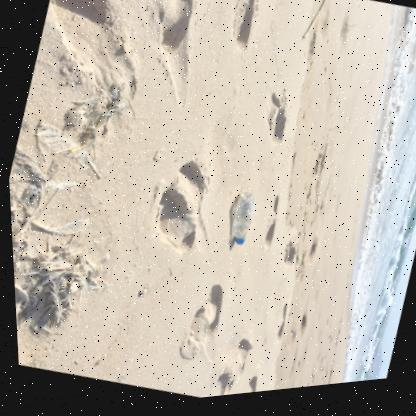Plastic: (231, 196, 252, 249)
Waste: (70, 145, 87, 153), (232, 243, 243, 249)
